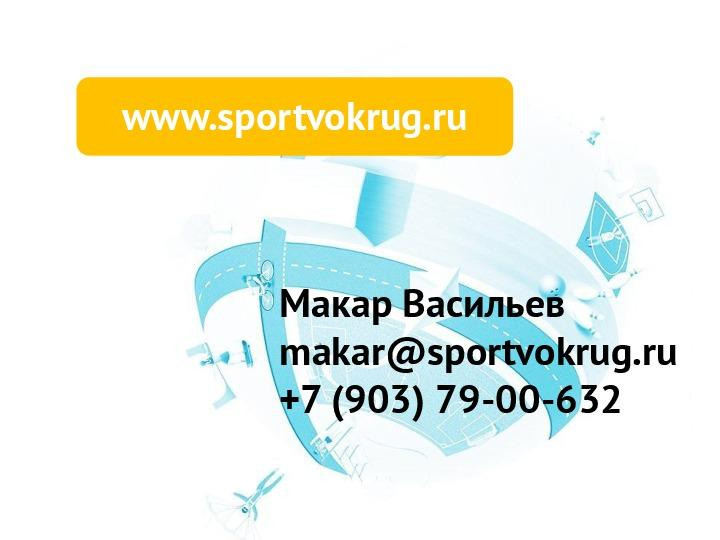subtitle: (250, 246, 695, 456)
title: (105, 91, 476, 146)
